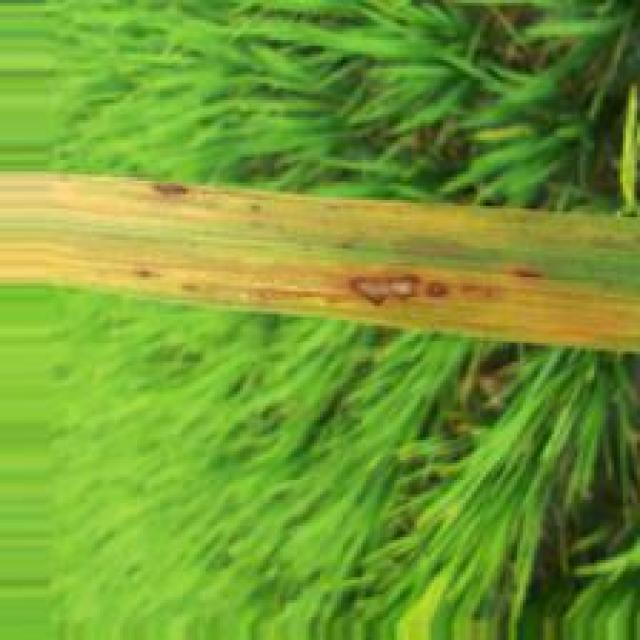Leaf_Blast: (0, 230, 640, 355), (0, 167, 629, 239)
